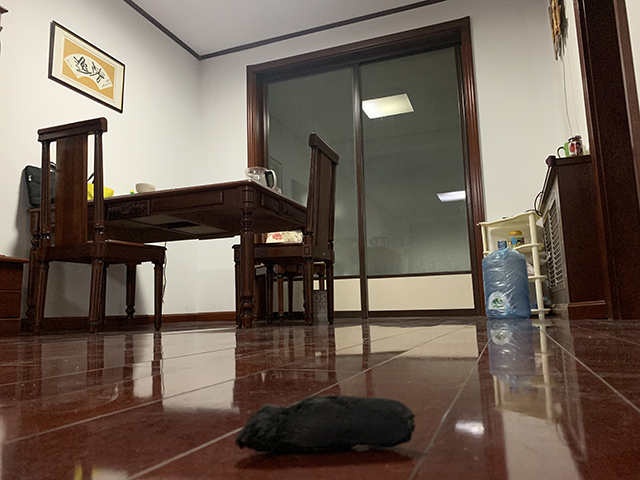cabinet: (534, 154, 611, 323)
feces: (233, 394, 417, 457)
stool: (28, 116, 169, 332), (231, 131, 341, 329)
table: (24, 177, 308, 328)
